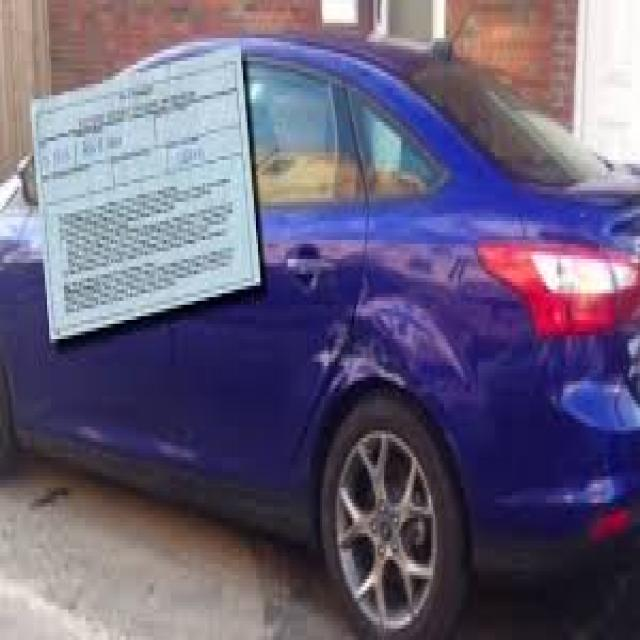minor: (304, 272, 480, 413)
